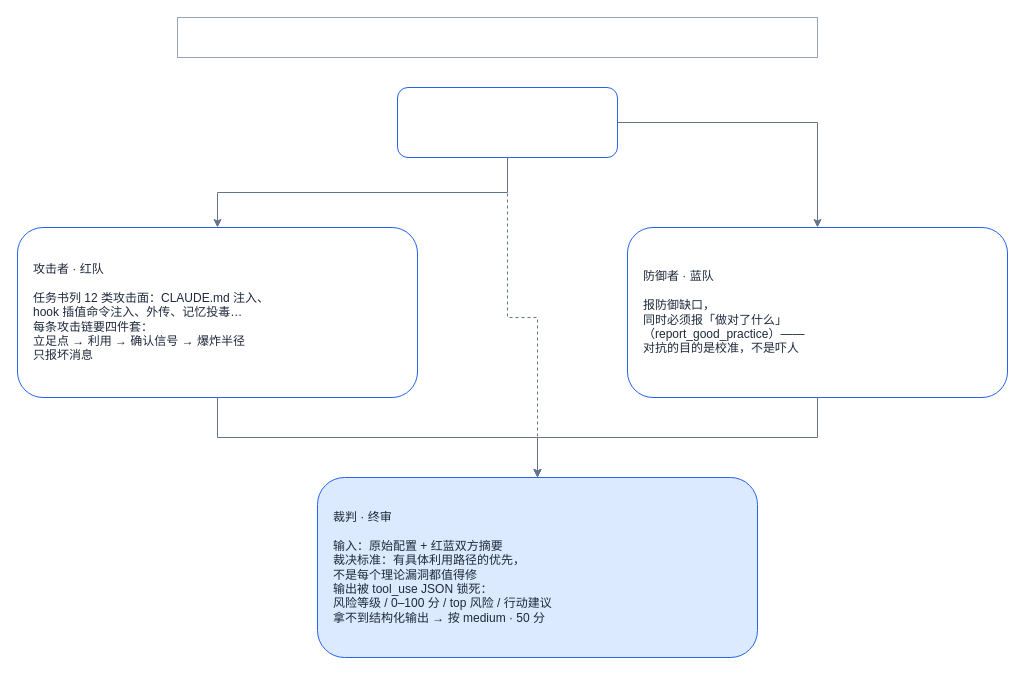
This 1025x675 diagram has some shape labels left out. Each missing label, with the centre of its shape:
"--opus 对被测配置做一次对抗评审（需要 ANTHROPIC_API_KEY，三个角色都用 claude-opus-5）" goes at point (497, 37).
"原始配置 （.claude/ mcp.json hooks…）" goes at point (507, 122).
